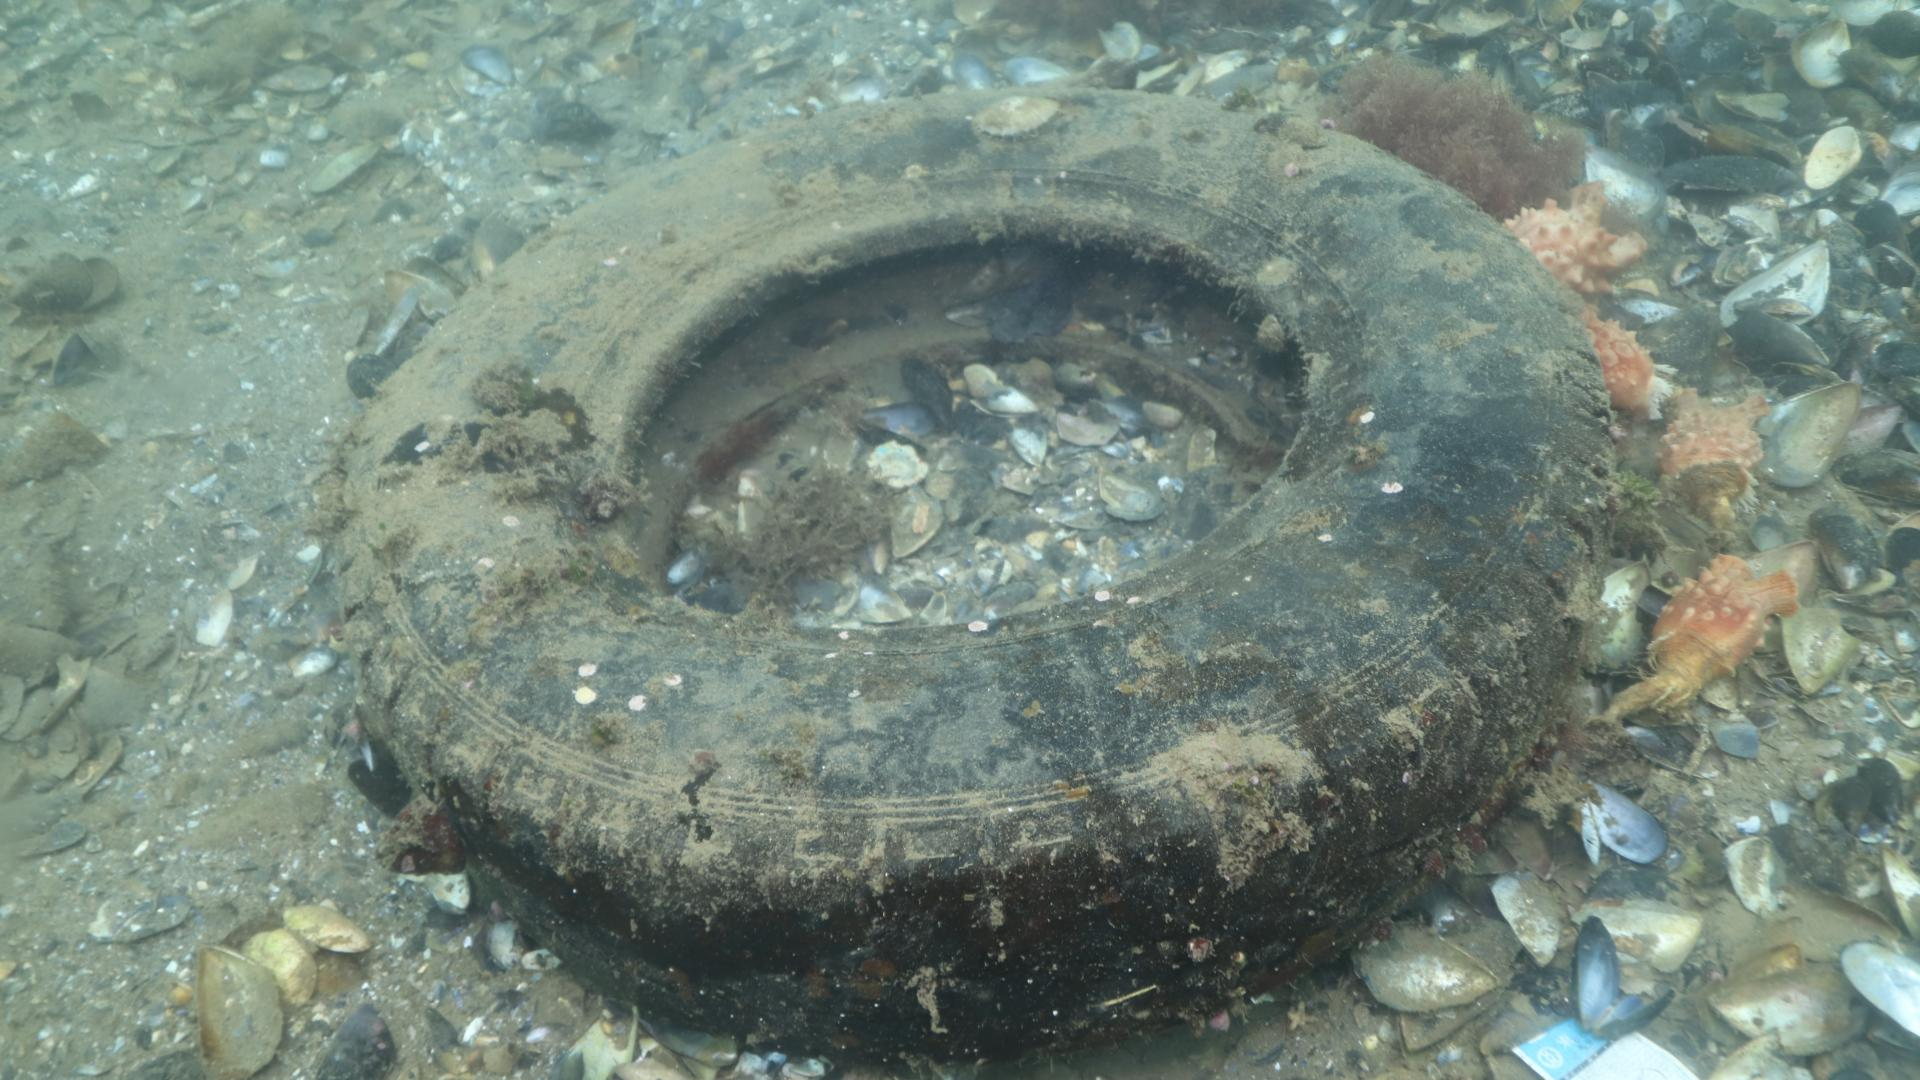tire: (309, 82, 1617, 1059)
